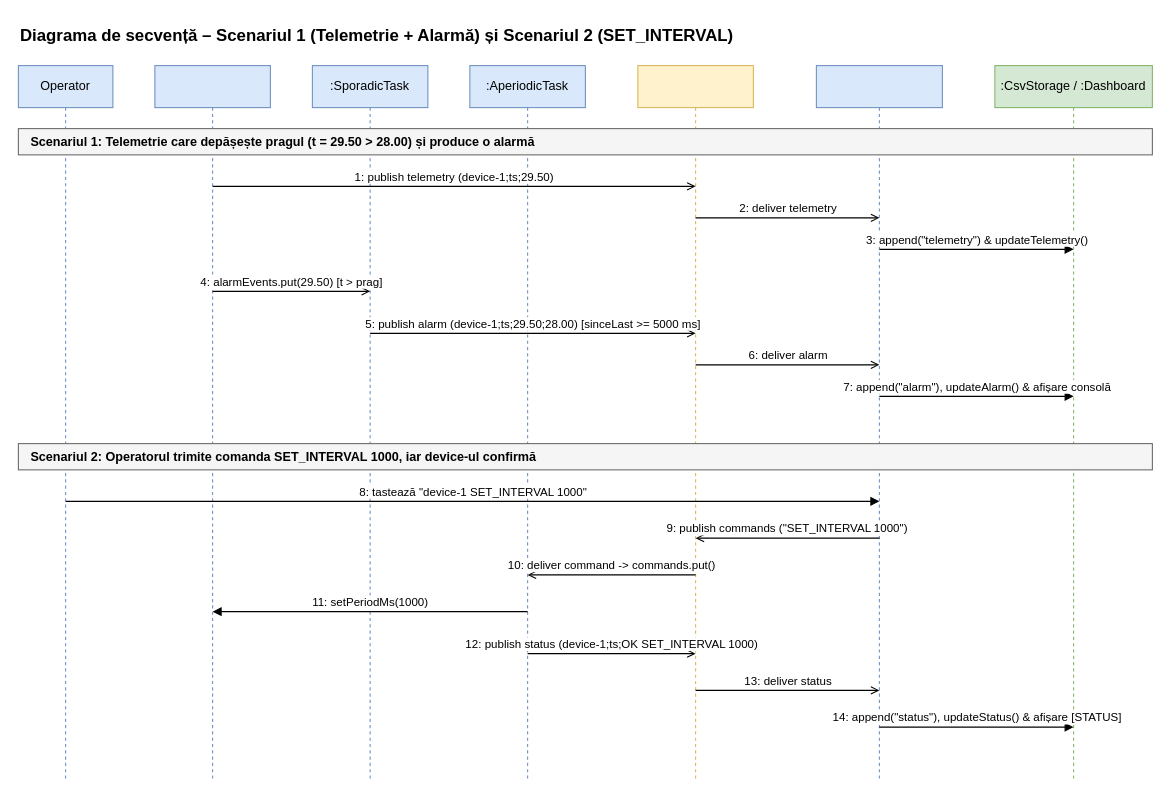
Image size: 1171x798. Some labels were removed from this diagram. The box of each missing label's shape, as (x1, y1, x2, y2) in pixels:
:BrokerMQTT: (637, 65, 753, 780)
:BusinessService: (815, 65, 942, 780)
:PeriodicTask: (154, 65, 270, 780)
